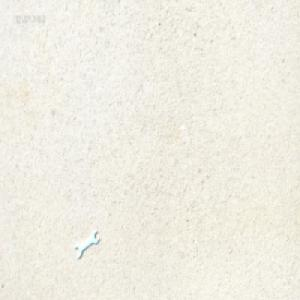Wrench: (76, 231, 100, 259)
